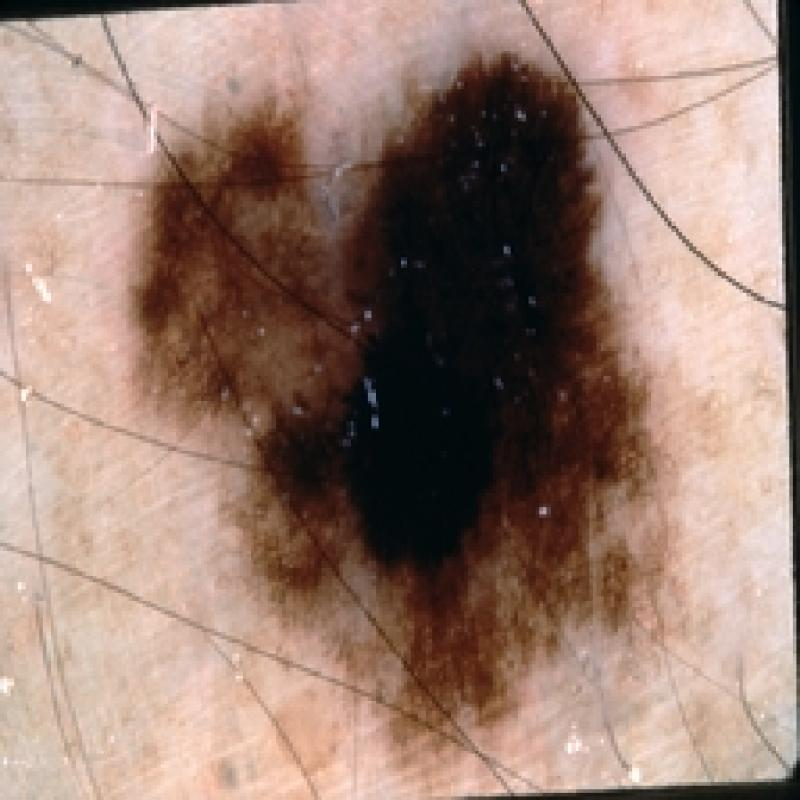malignant: (119, 52, 707, 751)
